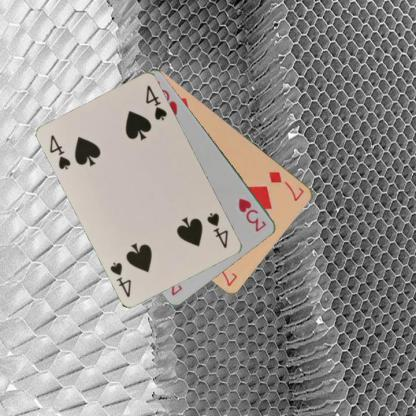3h: (236, 196, 268, 233)
4s: (204, 210, 230, 250), (47, 132, 72, 171)
7d: (266, 169, 306, 203)
